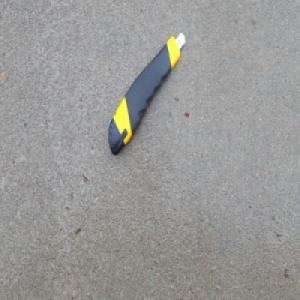Cutter: (108, 31, 186, 158)
